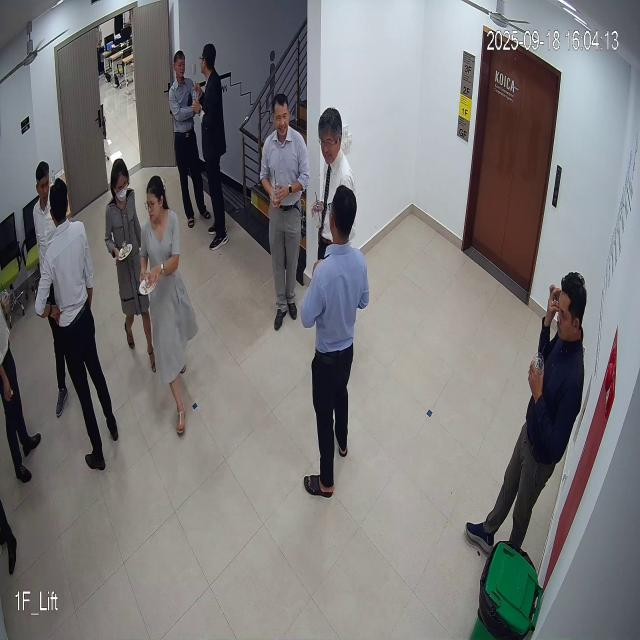face: (316, 103, 346, 167), (143, 175, 171, 226), (270, 90, 291, 144)
